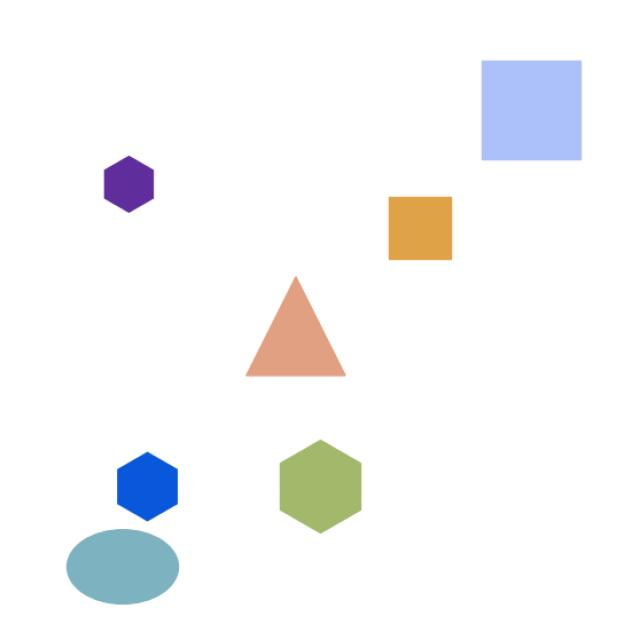Hexagon: (260, 432, 374, 545), (98, 445, 194, 527), (82, 149, 176, 230)
Oval: (53, 526, 198, 612)
Triangle: (225, 268, 356, 390)
square: (470, 38, 602, 180), (368, 185, 466, 273)
